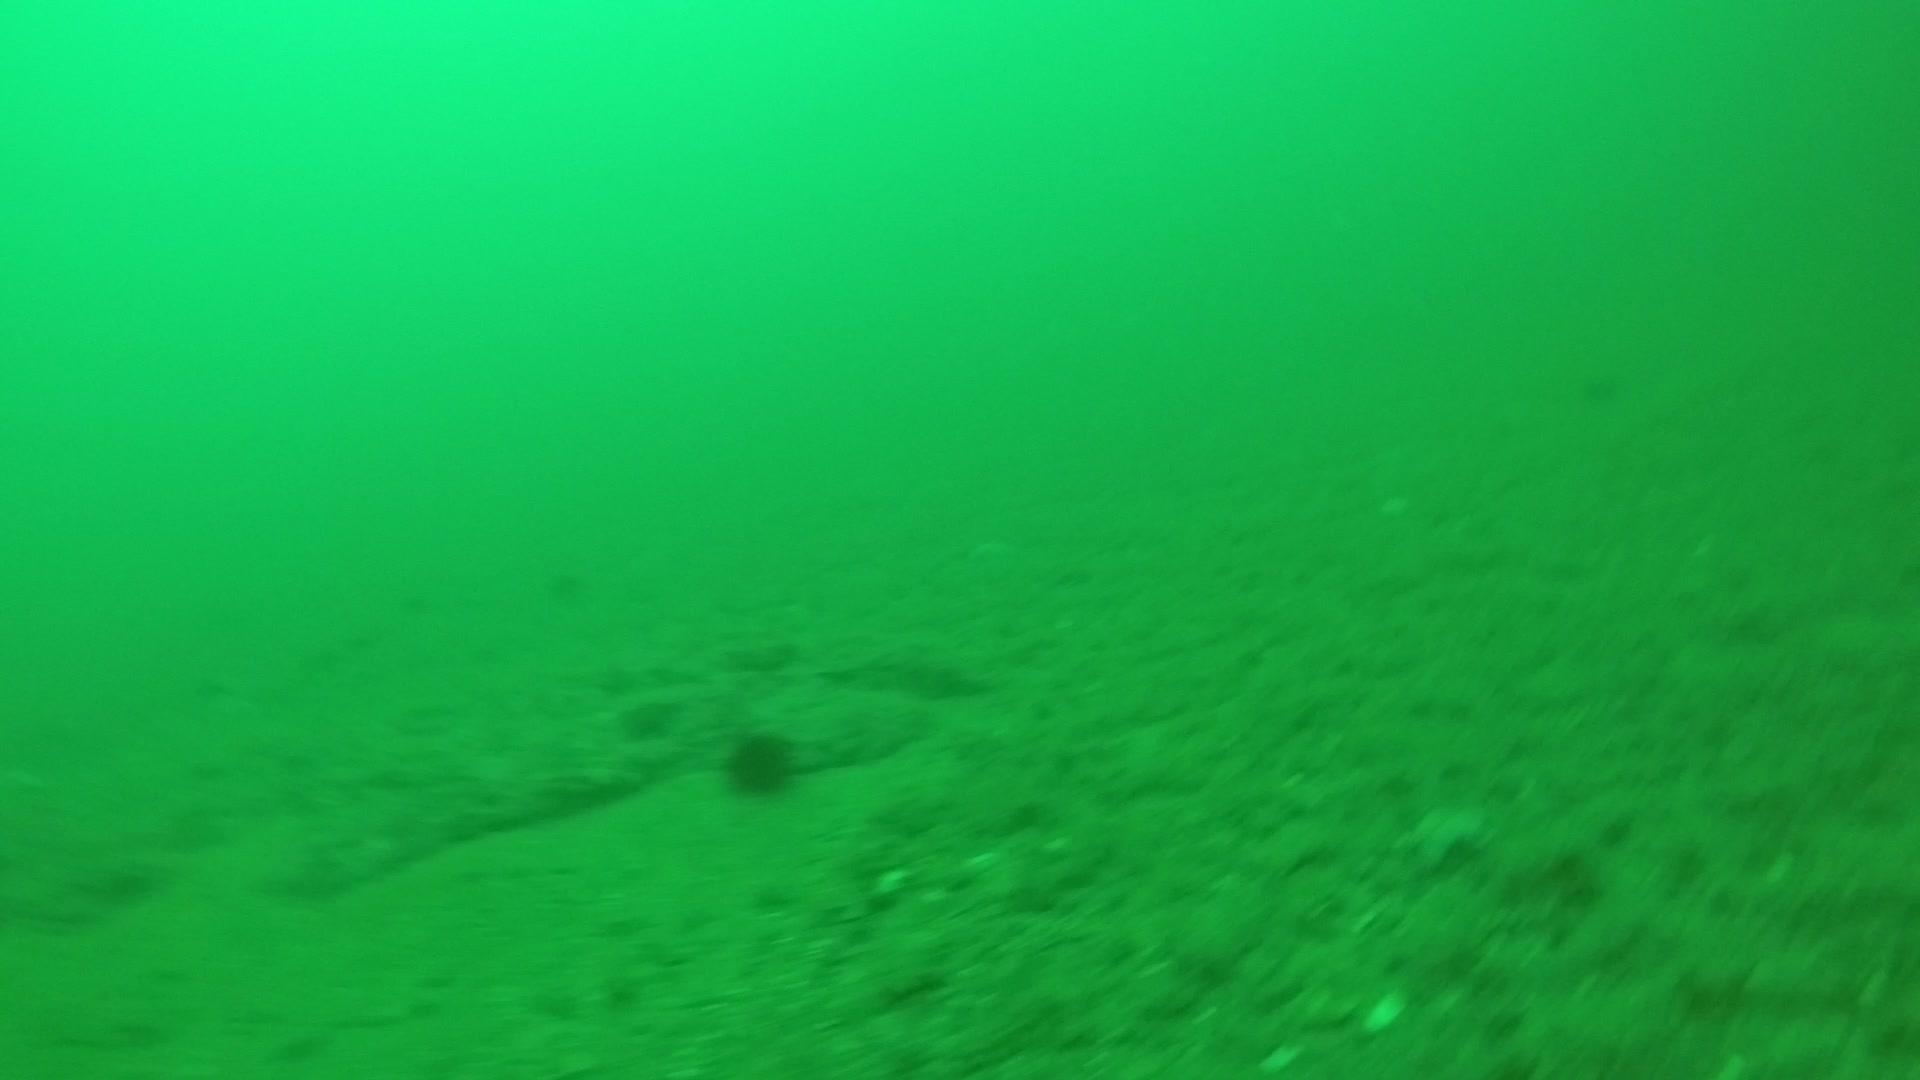echinus: (717, 723, 804, 802)
starfish: (1395, 794, 1491, 874)
